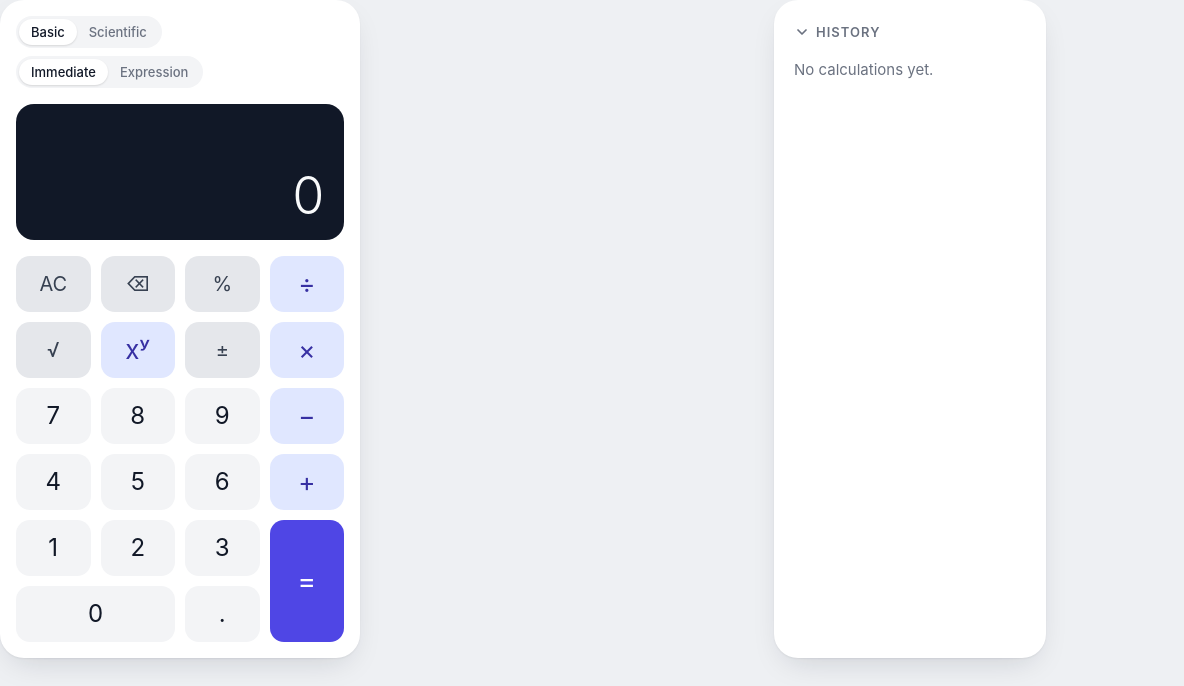
Scenario: Calculator › shows scientific keys and the angle unit in scientific mode
Click the radio button labelled "Scientific": (118, 32) [77,19,159,45]
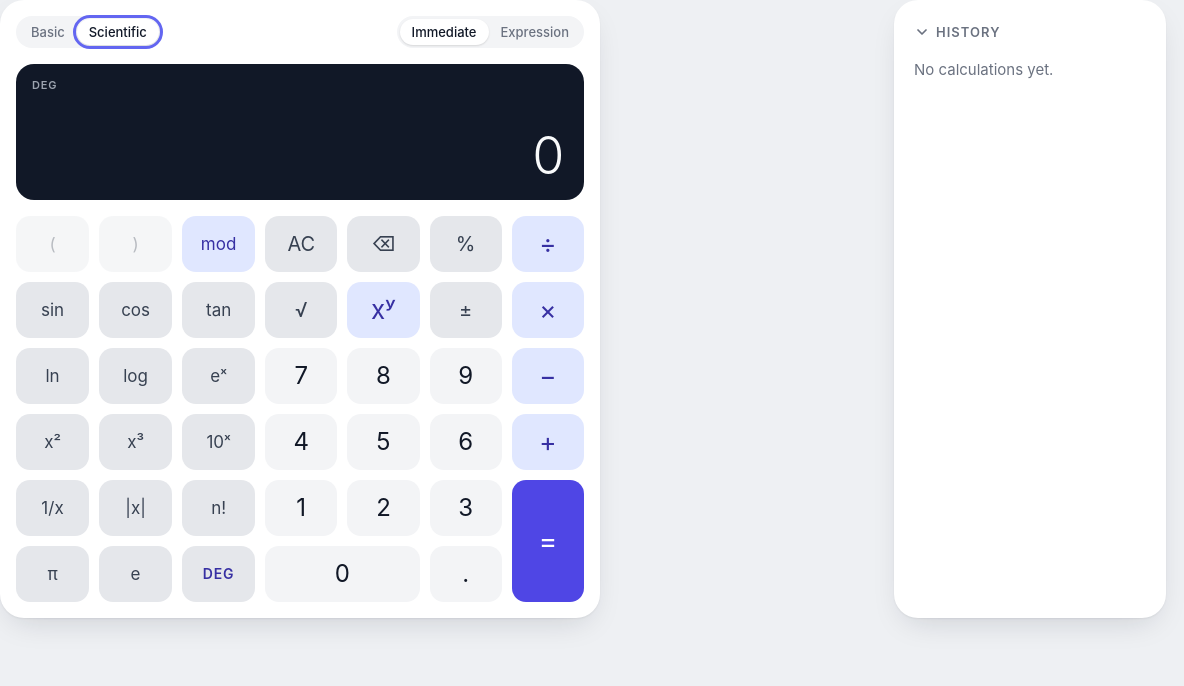
Check: the button with aria-label "Sine" is shown, box [16,282,89,338]
Check: the button with aria-label "Natural logarithm" is shown, box [16,348,89,404]
Check: the button named "Factorial" is shown, box [182,480,255,536]
